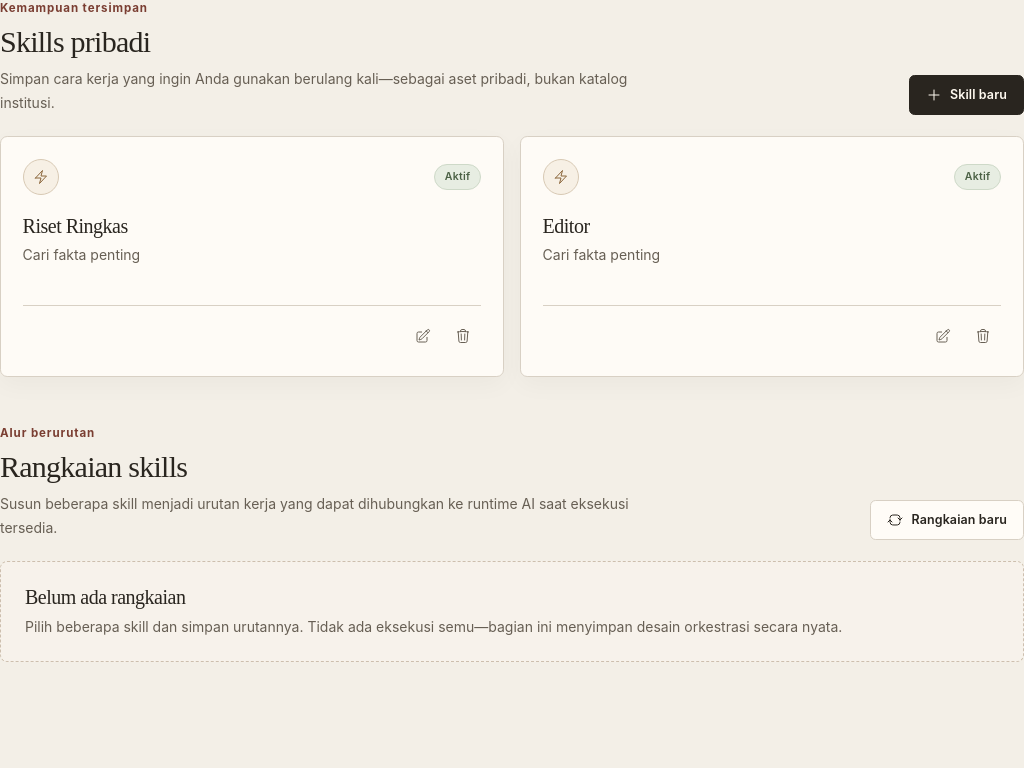
Test: SkillsStudio › saves skills as an ordered orchestration
The image size is (1024, 768).
Expected: the heading "Riset Ringkas" is shown, [23,215,128,237]
Click the button "Rangkaian baru".
click(947, 520)  # box [870,500,1023,540]
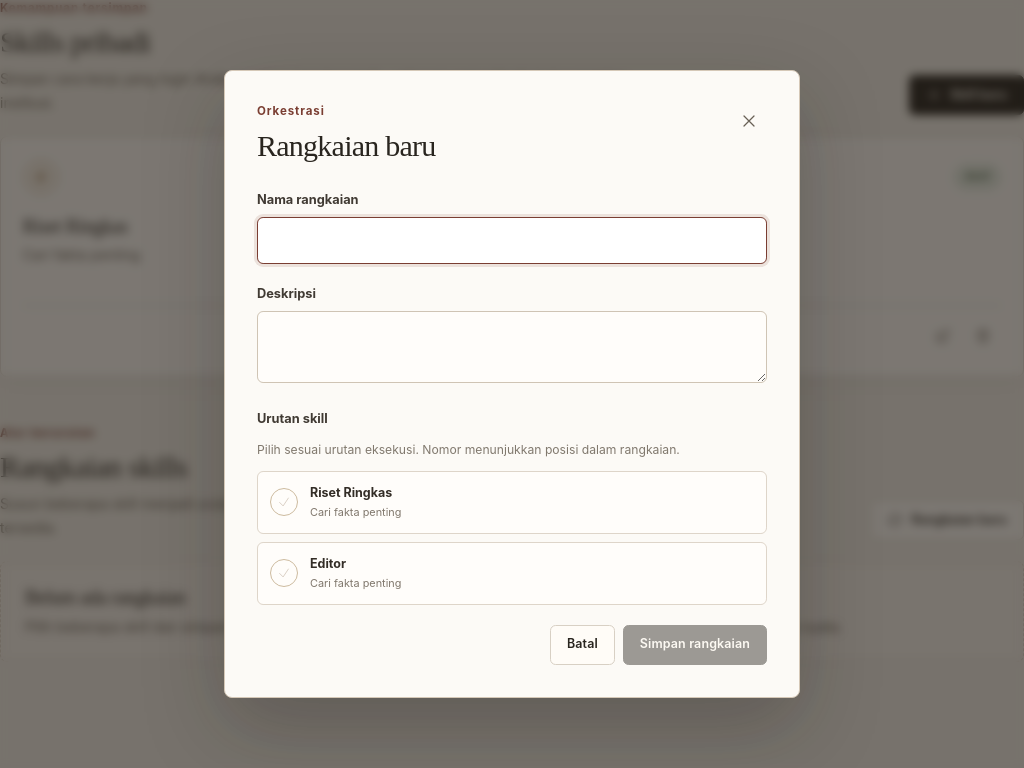
Type "Brief Mingguan" into the field labelled "Nama rangkaian".
click(512, 241); type("Brief Mingguan")  # box [257,217,767,264]
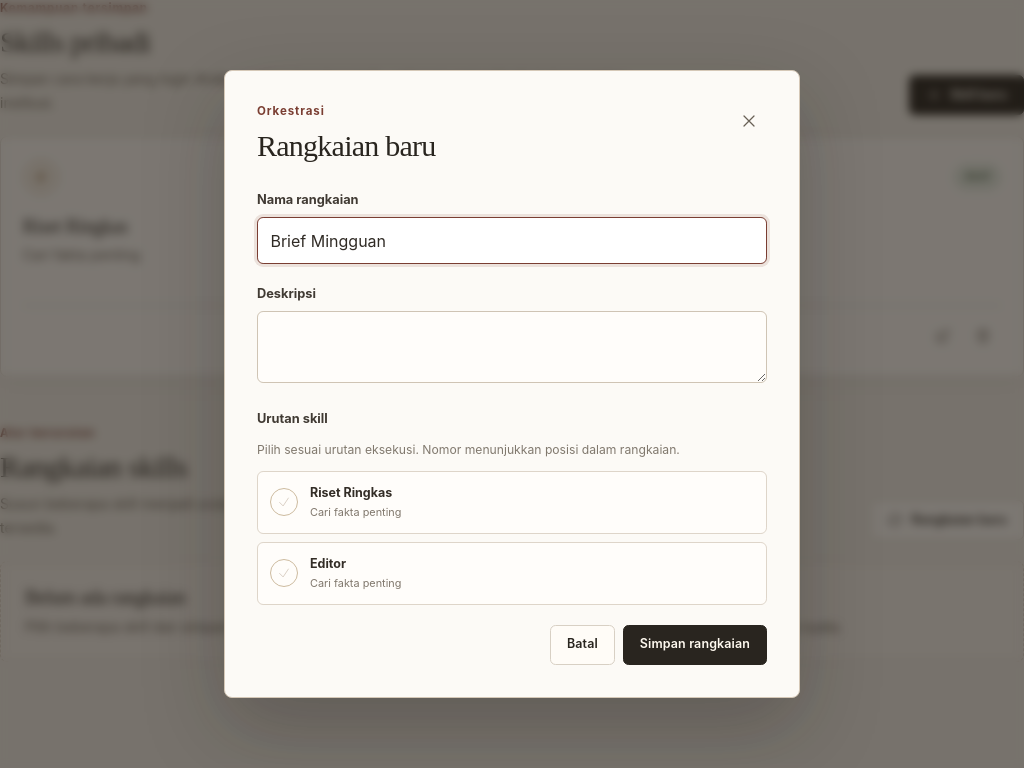
Click the checkbox labelled "Riset Ringkas".
click(351, 492)  # box [257,471,767,534]
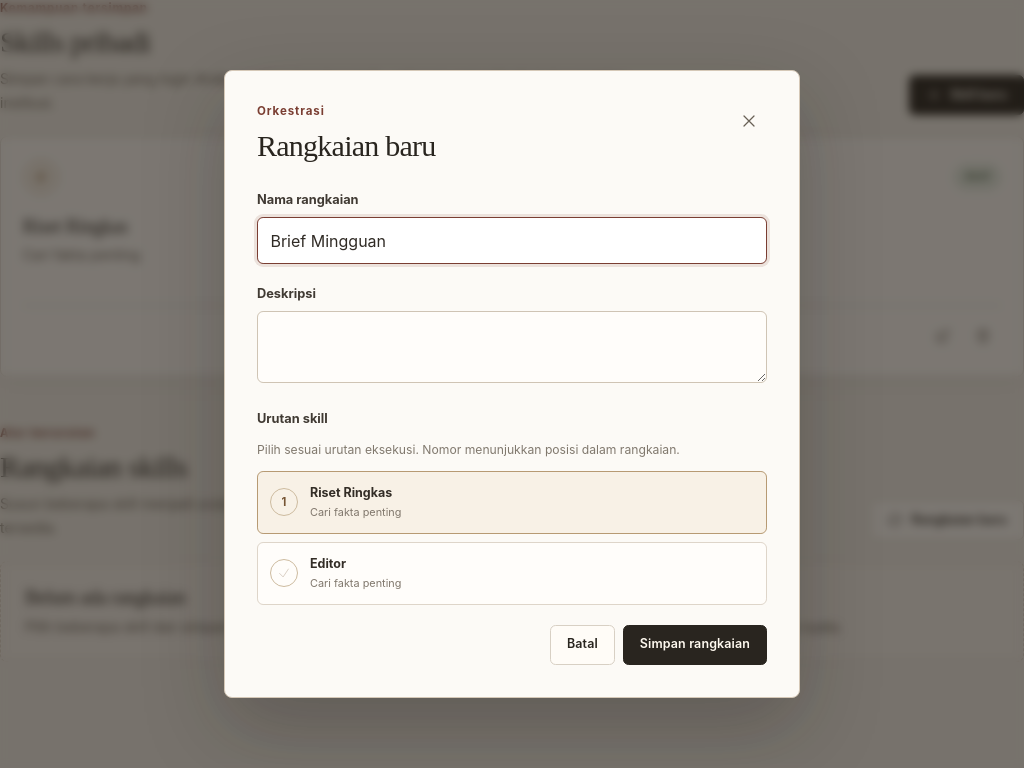
Click the checkbox labelled "Editor".
click(328, 563)  # box [257,542,767,604]
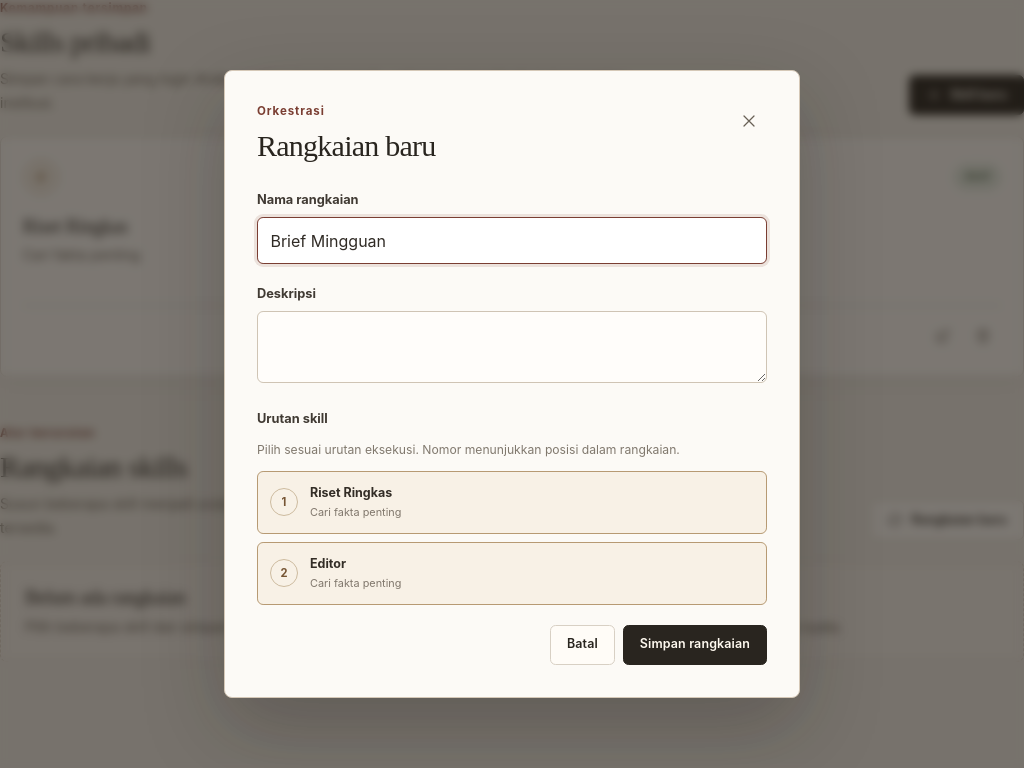
Click the button "Simpan rangkaian".
click(695, 644)  # box [623,624,767,664]
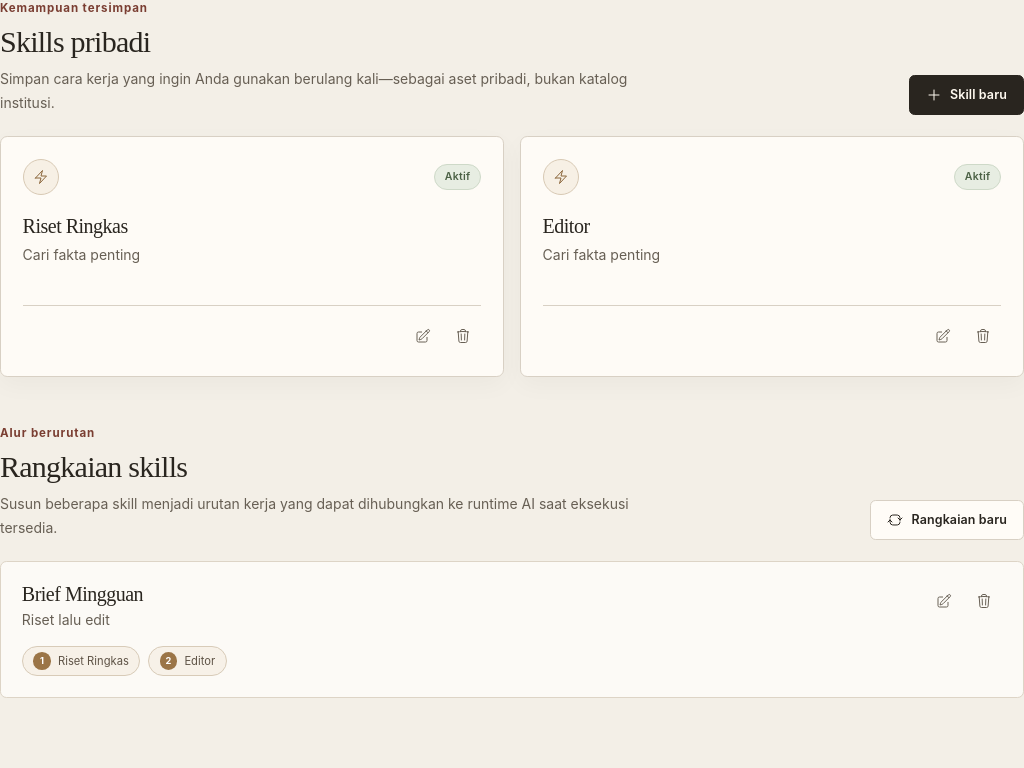
Now the heading "Brief Mingguan" is shown, box [22,583,143,605]
